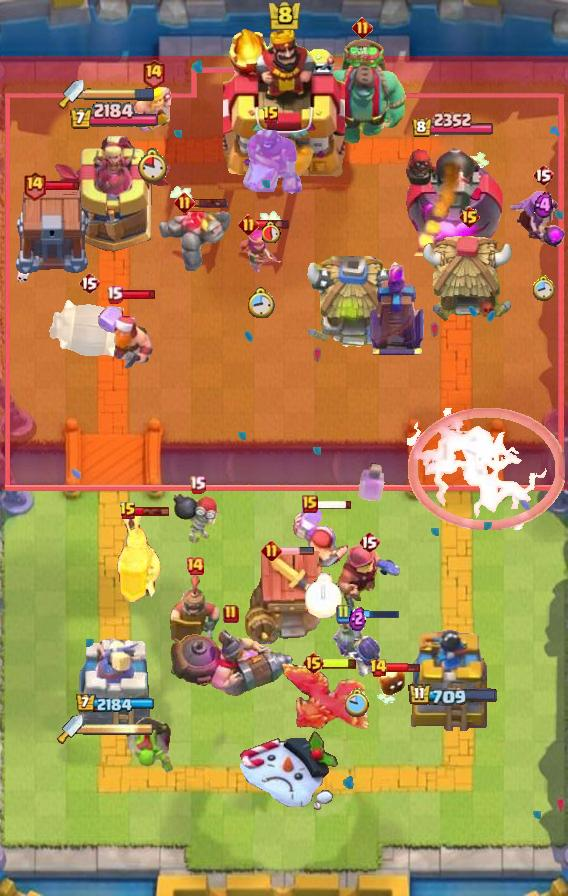archer: (130, 87, 176, 133)
bar: (52, 132, 176, 256), (77, 637, 151, 731)
bar-level: (124, 714, 174, 774)
barbarian-evolution: (407, 408, 565, 530)
bomb: (13, 189, 91, 275)
bomber: (377, 665, 407, 697)
cannon: (238, 227, 284, 275)
earthquake: (111, 510, 165, 608), (170, 572, 220, 648)
electro-spirit: (535, 193, 554, 220), (350, 605, 367, 631)
elixir: (305, 574, 343, 619), (138, 149, 168, 183), (247, 287, 275, 318), (346, 687, 371, 716), (531, 275, 555, 302), (262, 221, 281, 243)
emote: (348, 608, 400, 620), (322, 657, 358, 670), (385, 662, 421, 675), (191, 197, 228, 209), (120, 288, 157, 300), (315, 498, 352, 510), (256, 218, 291, 230), (43, 180, 81, 191), (135, 507, 170, 518), (279, 546, 315, 556)
fireball: (335, 545, 403, 625)
freeze: (237, 128, 305, 200)
goblin-ball: (330, 616, 384, 678)
ice-golem: (171, 490, 223, 544)
ice-spirit-evolution-symbol: (367, 265, 427, 357)
king-tower: (223, 27, 345, 181)
king-tower-bar: (84, 87, 156, 101), (83, 722, 153, 736)
knight-evolution: (355, 462, 384, 501)
lava-hound: (315, 36, 409, 146)
mighty-miner: (95, 300, 155, 374), (292, 505, 356, 571)
mother-witch: (279, 661, 373, 735)
prince: (302, 256, 404, 352), (422, 234, 516, 324)
queen-tower: (403, 621, 503, 731)
rascal-girl: (504, 189, 568, 251)
selected: (68, 101, 159, 130), (411, 112, 495, 140), (409, 684, 500, 709), (74, 694, 154, 714)
sparky: (245, 550, 331, 648)
text: (142, 58, 167, 89), (21, 170, 46, 201), (459, 205, 482, 229), (303, 651, 326, 675), (532, 163, 554, 187), (78, 271, 100, 295), (358, 530, 380, 554), (351, 17, 373, 39), (238, 213, 259, 235), (174, 191, 195, 212), (261, 539, 282, 560), (185, 556, 205, 576), (368, 658, 388, 678), (262, 105, 280, 125), (119, 501, 137, 521), (190, 475, 207, 494), (335, 604, 351, 624), (223, 604, 239, 624), (105, 285, 122, 303), (302, 495, 318, 513)
the-log: (47, 297, 131, 359)
tower-bar: (404, 138, 505, 256)
valkyrie-evolution: (157, 206, 233, 274)
wizard: (168, 625, 294, 699)
